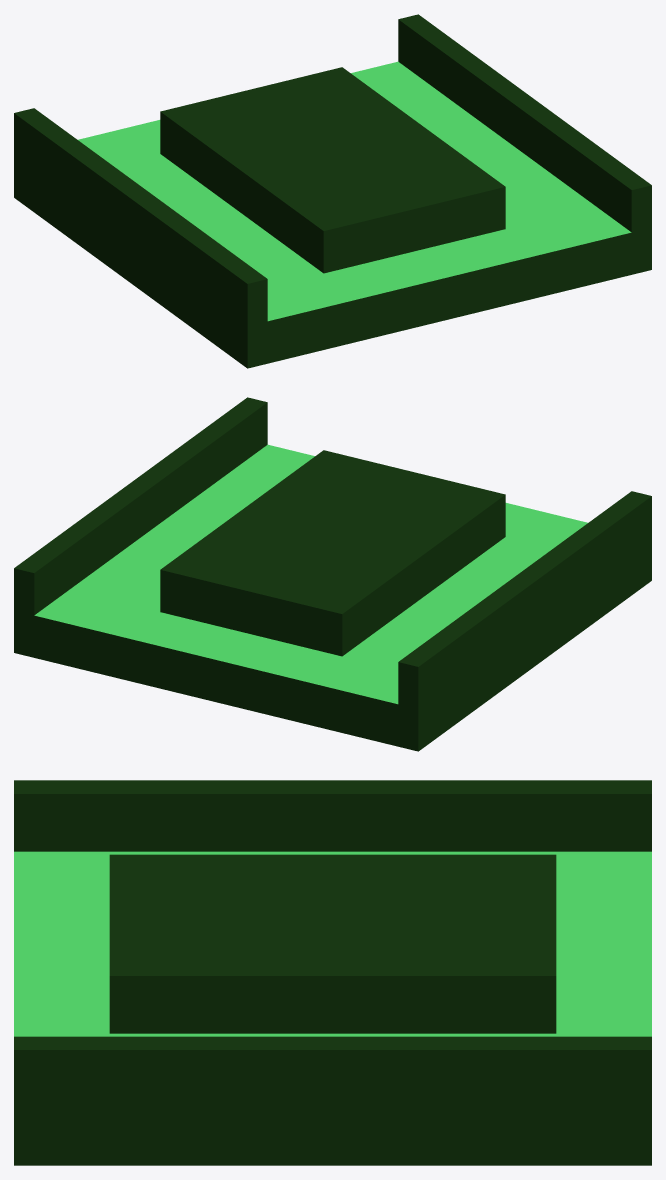
File: MG Rectangle Obstacle.fbx
3 views of the same model, one above another, from view 1: azimuth 30°, elevation 25°; view 2: azimuth 150°, elevation 25°; view 3: azimuth 270°, elevation 25° (orthographic). The views are drawn at different scales.
Parts seen in each view (by area): view 1: MG Rectangle Obstacle; view 2: MG Rectangle Obstacle; view 3: MG Rectangle Obstacle.
Boxes of the visible parts, x1,y1,x2,y2 form: MG Rectangle Obstacle: [14, 14, 651, 368]; MG Rectangle Obstacle: [14, 397, 651, 751]; MG Rectangle Obstacle: [14, 780, 651, 1165].
Size of the model in its own units: 200 by 40 by 200.
